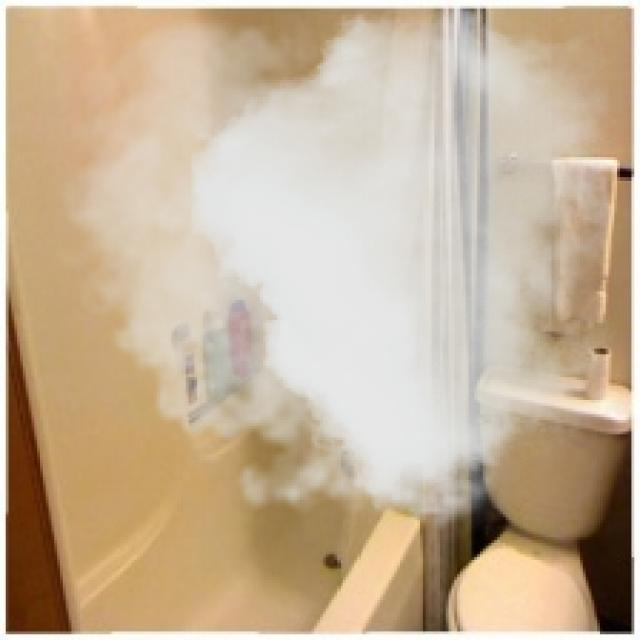Smoke: (42, 6, 608, 546)
